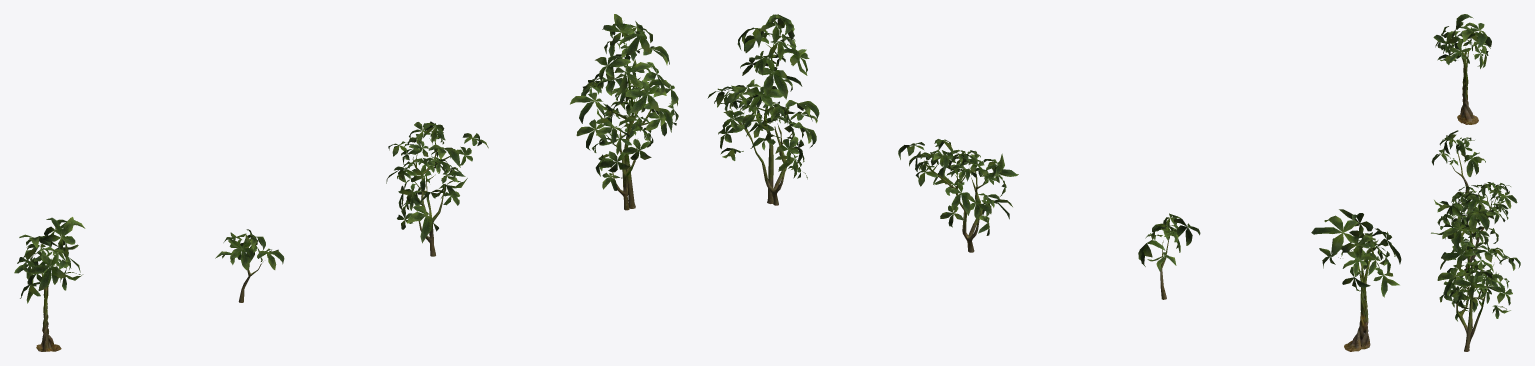
The model's file is pachira_aquatica_01.glb.
3 views of the same model, side by side, from view 1: azimuth 30°, elevation 25°; view 2: azimuth 150°, elevation 25°; view 3: azimuth 270°, elevation 25° (orthographic). The views are drawn at different scales.
Visible parts, largest first — view 1: pachira_aquatica_01_leaves_a, pachira_aquatica_01_bark_a; view 2: pachira_aquatica_01_leaves_a, pachira_aquatica_01_bark_a; view 3: pachira_aquatica_01_leaves_a, pachira_aquatica_01_bark_a.
Boxes of the visible parts, x1,y1,x2,y2 form: pachira_aquatica_01_leaves_a: (14, 14, 678, 303); pachira_aquatica_01_bark_a: (36, 43, 653, 351); pachira_aquatica_01_leaves_a: (707, 14, 1401, 297); pachira_aquatica_01_bark_a: (730, 43, 1370, 351); pachira_aquatica_01_leaves_a: (1431, 14, 1520, 321); pachira_aquatica_01_bark_a: (1451, 50, 1499, 351).
Size of the model in its own units: 6.87 by 1.9 by 0.997.
Materials: 2 (2 with a texture image).
